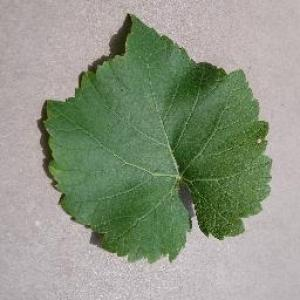Folha: (40, 12, 272, 264)
